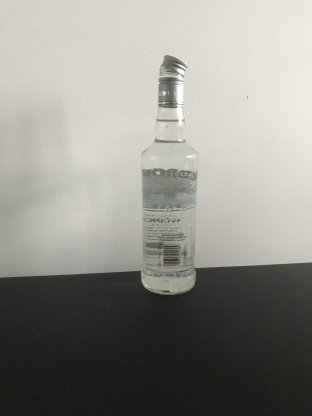nakretka: (156, 53, 188, 108)
